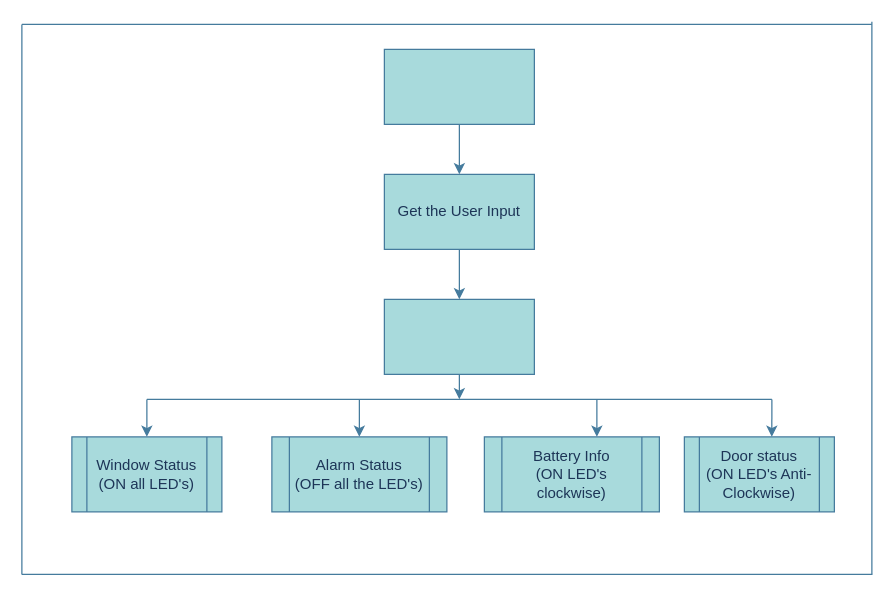
Some shapes in this 896 by 599 pixel diagram are drawn without their labels. Each missing label, with the centre of its shape:
"Read the Input" goes at point (458, 336).
"Start" goes at point (458, 86).
